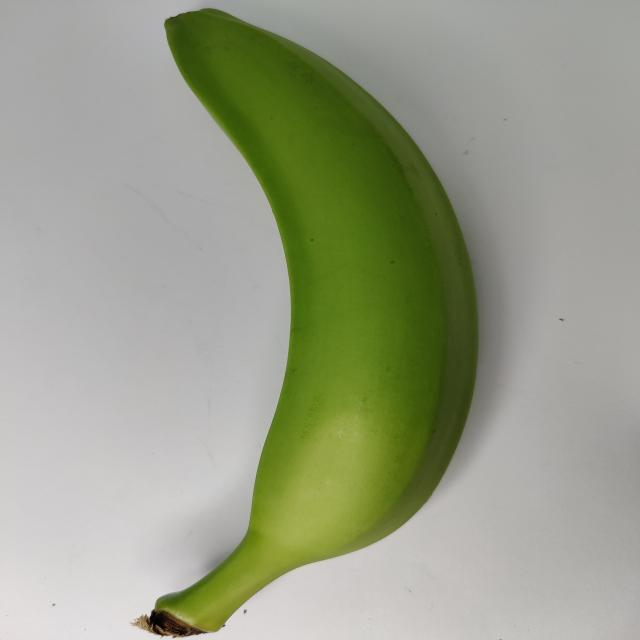raw: (54, 0, 522, 640)
